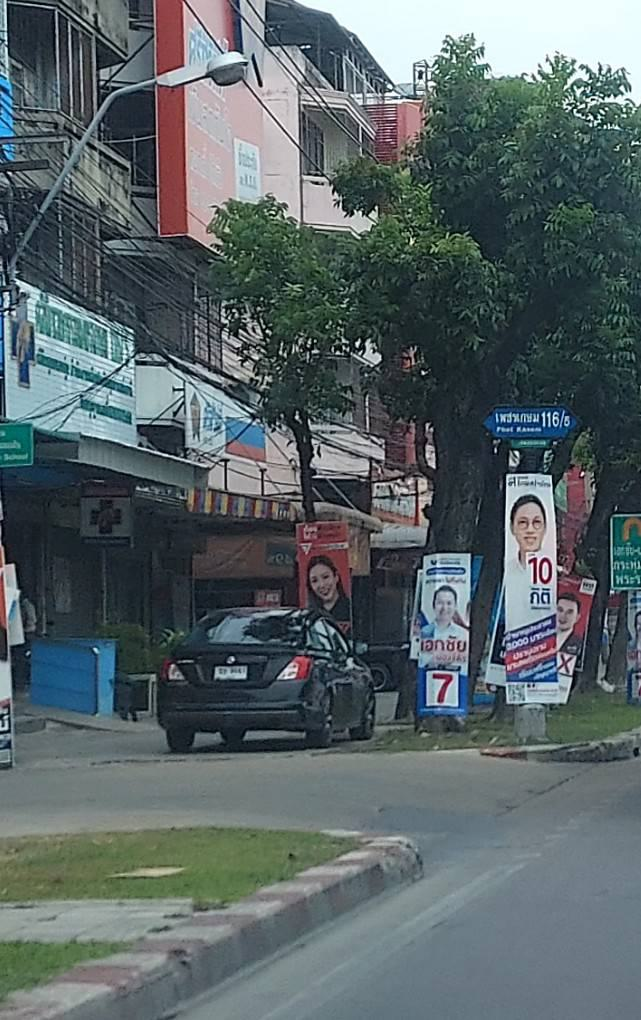Banner: (501, 469, 568, 702), (292, 519, 353, 639), (422, 555, 469, 708)
